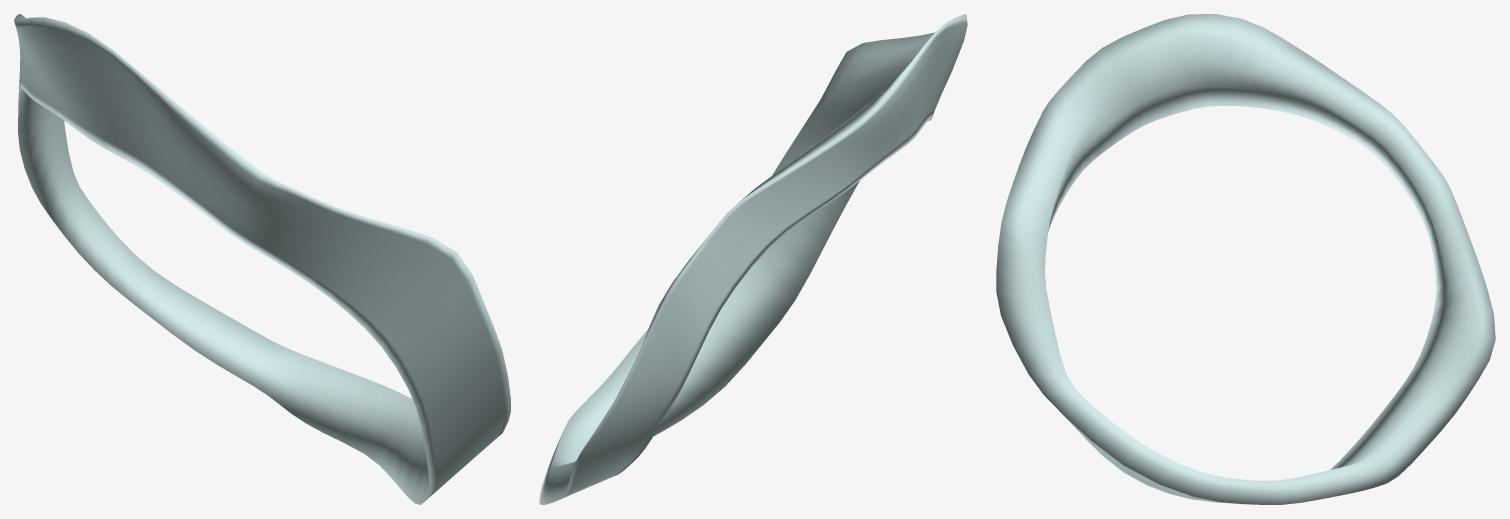
The model's file is Acetabular_labrum.r_Generated_Mesh_From_X3D.120.glb.
The picture shows the model from 3 angles, left to right: view 1: azimuth 30°, elevation 25°; view 2: azimuth 150°, elevation 25°; view 3: azimuth 270°, elevation 25°; orthographic projection. The views are drawn at different scales.
Parts seen in each view (by area): view 1: Acetabular_labrum.r_Generated_Mesh_From_X3D.120; view 2: Acetabular_labrum.r_Generated_Mesh_From_X3D.120; view 3: Acetabular_labrum.r_Generated_Mesh_From_X3D.120.
Part boxes in pixels (x1,y1,x2,y2): Acetabular_labrum.r_Generated_Mesh_From_X3D.120: (14,14,510,504); Acetabular_labrum.r_Generated_Mesh_From_X3D.120: (539,14,967,504); Acetabular_labrum.r_Generated_Mesh_From_X3D.120: (996,14,1495,504).
Bounding box in the file's own units: 0.0353 × 0.0478 × 0.0573.
